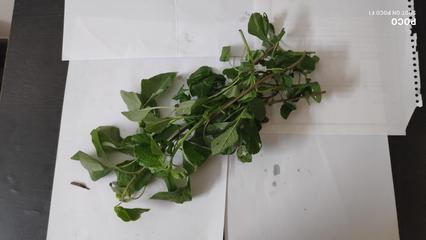spinach: (85, 37, 314, 214)
